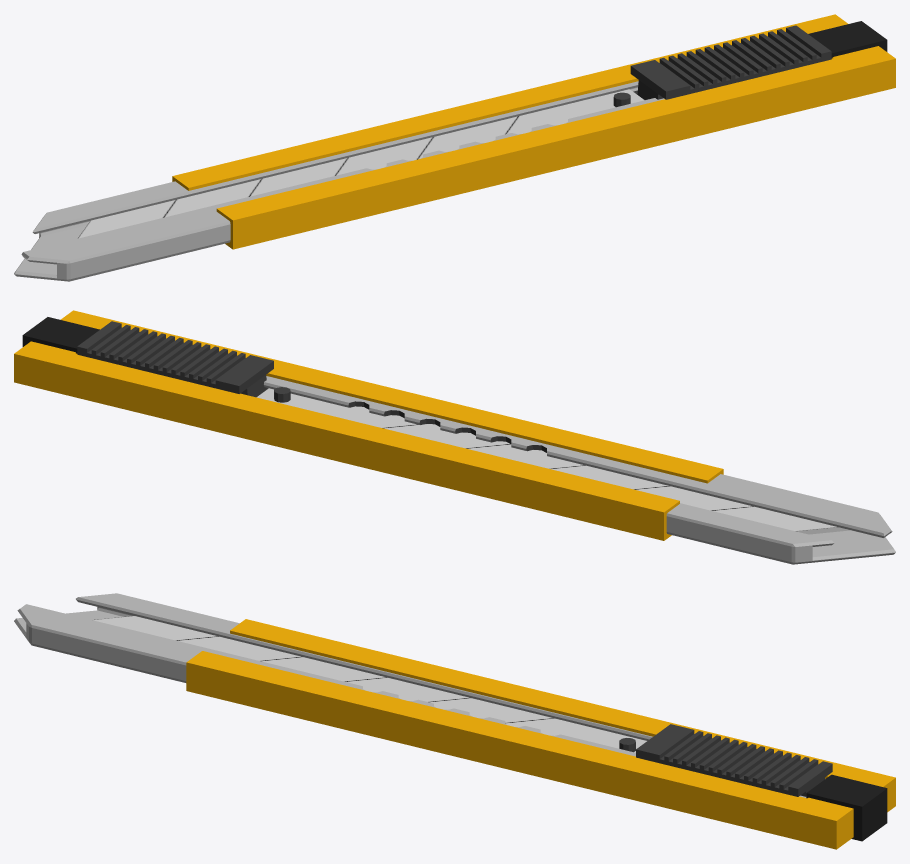
Rendered from knife.fbx.
The picture shows the model from 3 angles, top to bottom: view 1: azimuth 30°, elevation 25°; view 2: azimuth 150°, elevation 25°; view 3: azimuth 330°, elevation 25°; orthographic projection.
Visible parts, largest first — view 1: カッターナイフ; view 2: カッターナイフ; view 3: カッターナイフ.
Boxes of the visible parts, bbox=[...] form: カッターナイフ: bbox=[14, 14, 895, 281]; カッターナイフ: bbox=[14, 310, 895, 564]; カッターナイフ: bbox=[14, 593, 895, 849].
Size of the model in its own units: 77.56 by 3.61 by 9.37.
